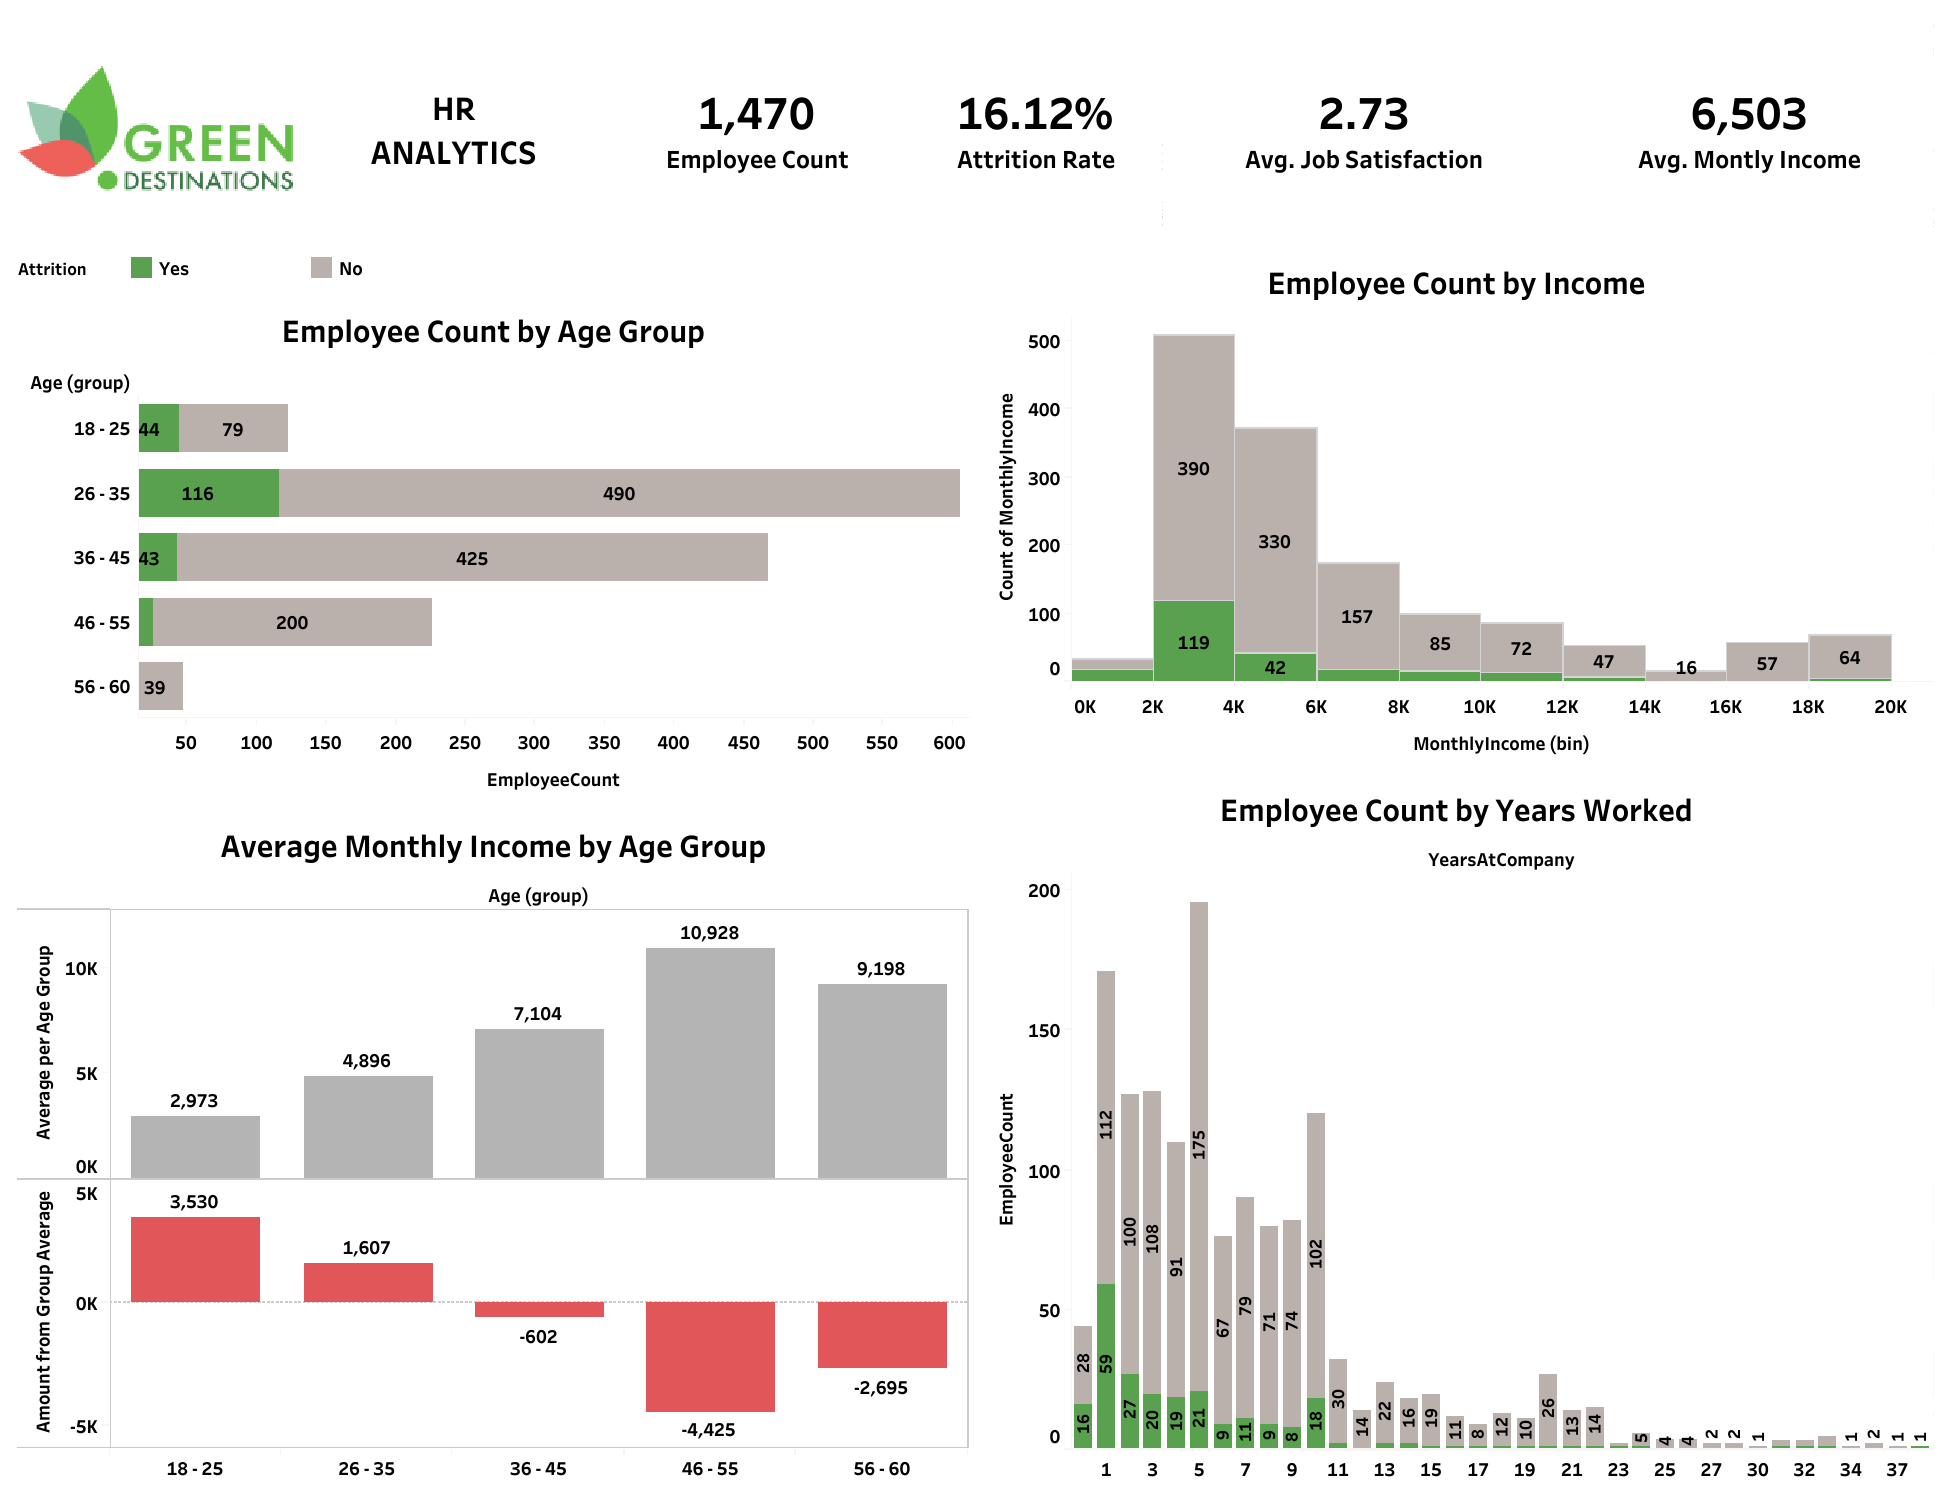

What the dashboard file says about the page in this screenshot:
{"tool":"tableau","page":{"name":"Dashboard 1","canvas":[1300,1000],"ordinal":0},"visuals":[{"type":"image","param":"Image/greendestination+logo.png","box":[8,8,191,156]},{"type":"text","box":[199,8,207,156]},{"type":"worksheet","title":"Total Employee Count","mark":"Automatic","box":[406,8,198,156]},{"type":"worksheet","title":"Attrition Rate ","mark":"Automatic","box":[604,8,174,156]},{"type":"worksheet","title":"Job Satisfaction","mark":"Automatic","box":[778,8,264,156]},{"type":"worksheet","title":"Avg. Montly Income","mark":"Automatic","box":[1042,8,250,156]},{"type":"legend","title":"Employee Count by Age Group","param":"[federated.1jstbin06qpec31bx9g5y0824dhq].[none:Attrition:nk]","box":[8,164,642,32]},{"type":"worksheet","title":"Employee Count by Income","mark":"Automatic","rows":["MonthlyIncome"],"cols":["MonthlyIncome (bin)"],"box":[650,164,642,351]},{"type":"worksheet","title":"Employee Count by Age Group","mark":"Automatic","cols":["EmployeeCount"],"box":[8,196,642,343]},{"type":"worksheet","title":"Employee Count by Years Worked","mark":"Automatic","rows":["EmployeeCount"],"cols":["YearsAtCompany"],"box":[650,515,642,477]},{"type":"worksheet","title":"Average Income per Age Group","mark":"Automatic","rows":["Calculation_233061293608542208","Calculation_233061293610635266"],"box":[8,539,642,453]}]}

Visuals, with their boxes in screenshot pixels (x1, y1, x2, y2), scaled from the page's 1300x1000 canvas onto the 1949x1499 screenshot:
image: x1=12 y1=12 x2=298 y2=246
text: x1=298 y1=12 x2=609 y2=246
"Total Employee Count" worksheet: x1=609 y1=12 x2=906 y2=246
"Attrition Rate " worksheet: x1=906 y1=12 x2=1166 y2=246
"Job Satisfaction" worksheet: x1=1166 y1=12 x2=1562 y2=246
"Avg. Montly Income" worksheet: x1=1562 y1=12 x2=1937 y2=246
"Employee Count by Age Group" legend: x1=12 y1=246 x2=974 y2=294
"Employee Count by Income" worksheet: x1=974 y1=246 x2=1937 y2=772
"Employee Count by Age Group" worksheet: x1=12 y1=294 x2=974 y2=808
"Employee Count by Years Worked" worksheet: x1=974 y1=772 x2=1937 y2=1487
"Average Income per Age Group" worksheet: x1=12 y1=808 x2=974 y2=1487
